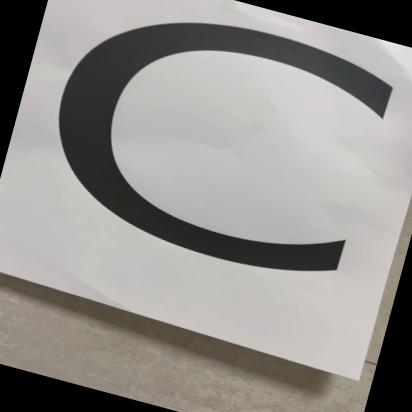seat: (0, 0, 412, 373)
